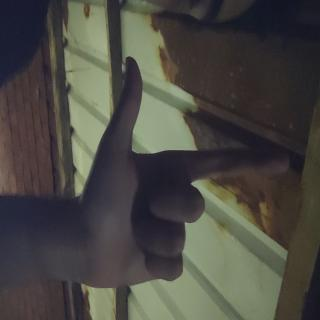LAAM: (38, 32, 221, 320)
